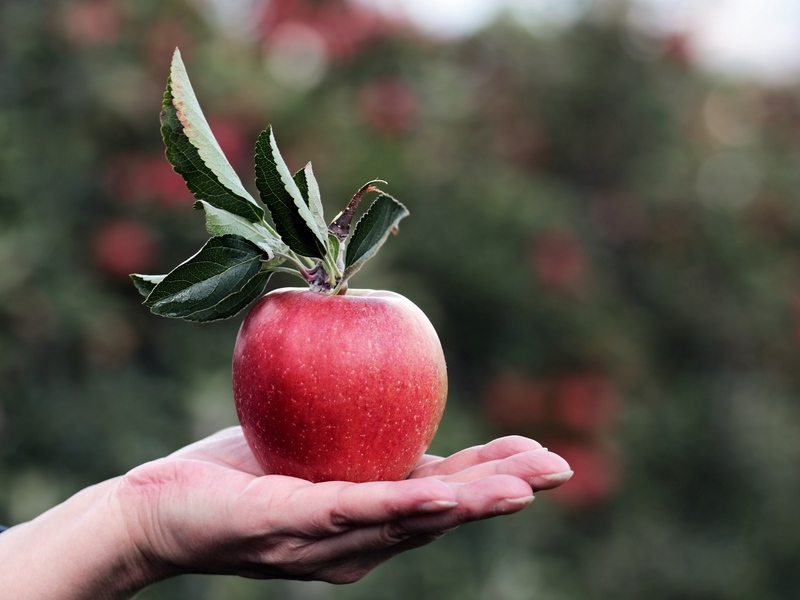apple: (235, 268, 457, 479)
